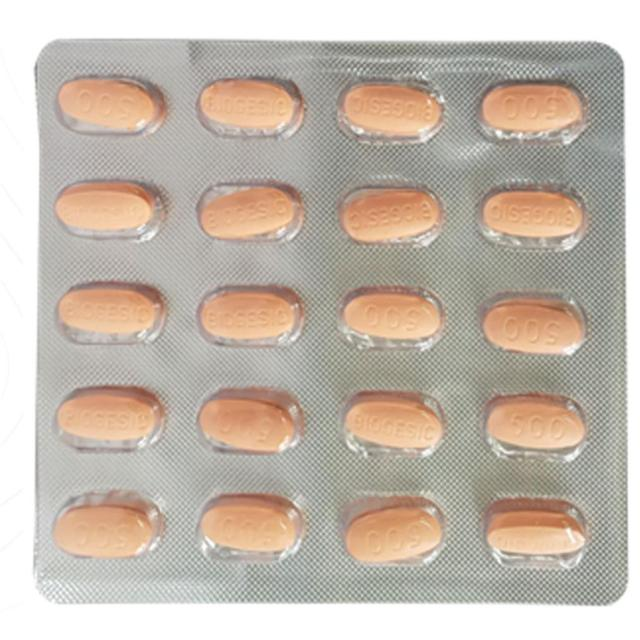blister: (29, 27, 634, 616)
